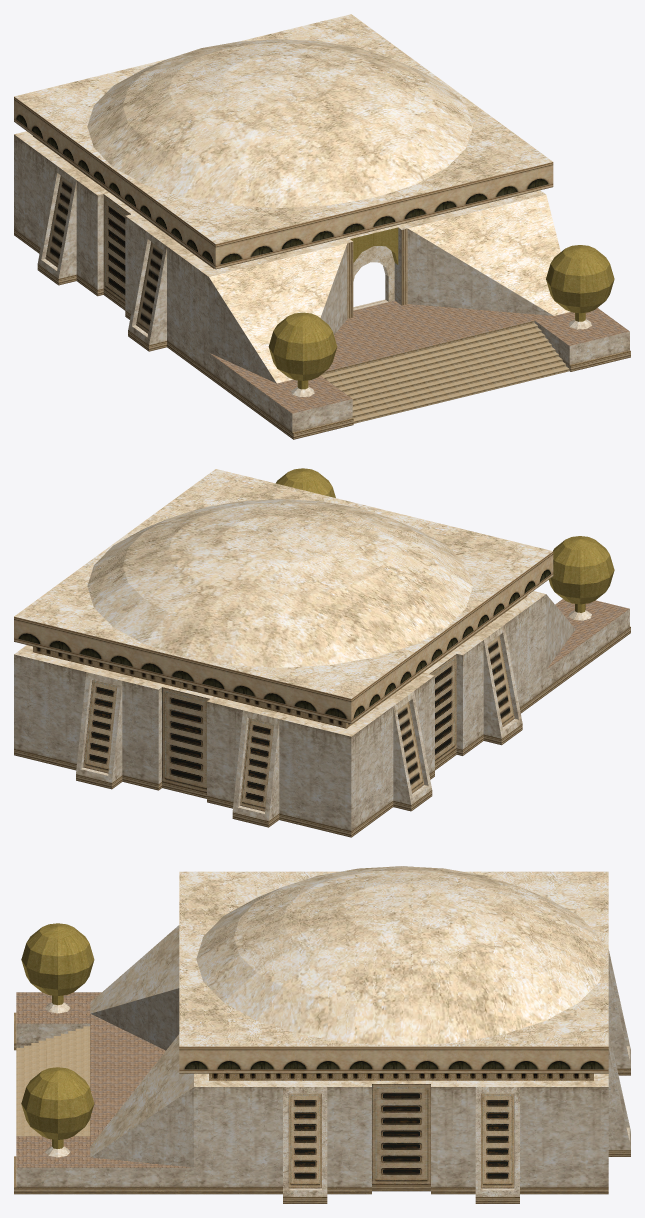
The model's file is mun_tato_guild_commerce_s01_r0_exterior_mesh_l0.fbx.
The picture shows the model from 3 angles, top to bottom: view 1: azimuth 30°, elevation 25°; view 2: azimuth 150°, elevation 25°; view 3: azimuth 270°, elevation 25°; orthographic projection. The views are drawn at different scales.
Visible parts, largest first — view 1: mesh_node; view 2: mesh_node; view 3: mesh_node.
Boxes of the visible parts, bbox=[...] form: mesh_node: bbox=[14, 14, 630, 439]; mesh_node: bbox=[14, 468, 630, 837]; mesh_node: bbox=[14, 866, 630, 1203].
Size of the model in its own units: 38.75 by 18.75 by 52.08.
